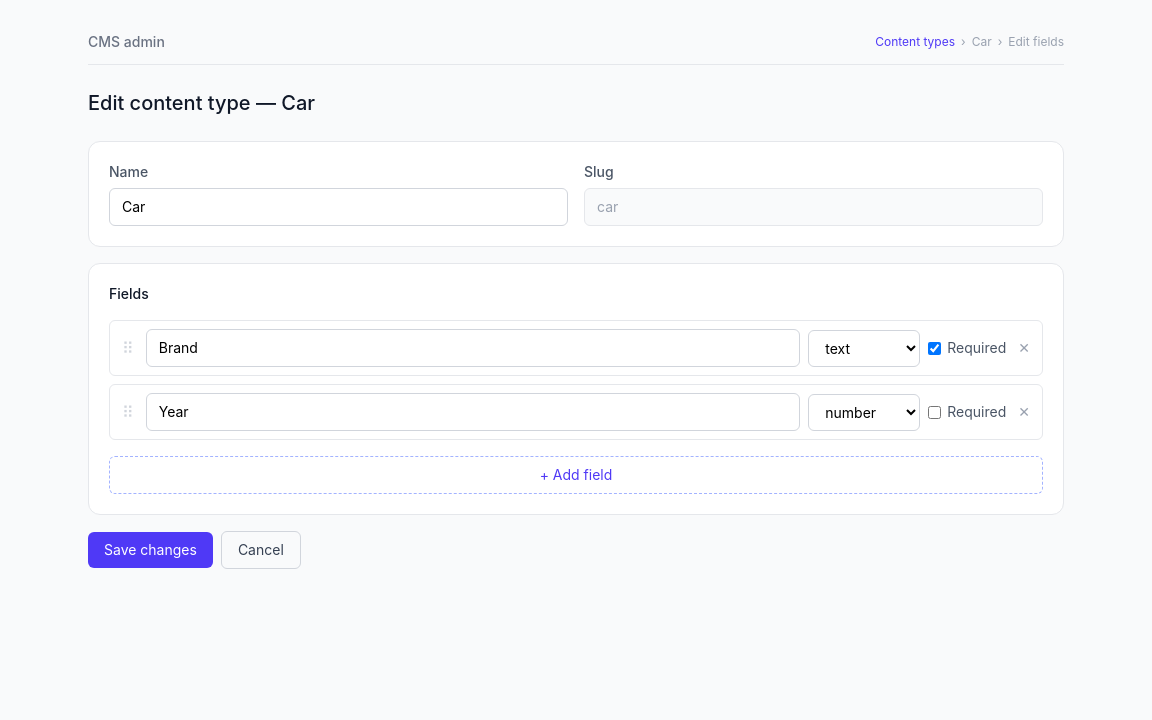
Test case: EditContentType › shows "Name is required" when submitting with empty name
Clear the field showing "Car" at (338, 207), box [109,188,568,226]
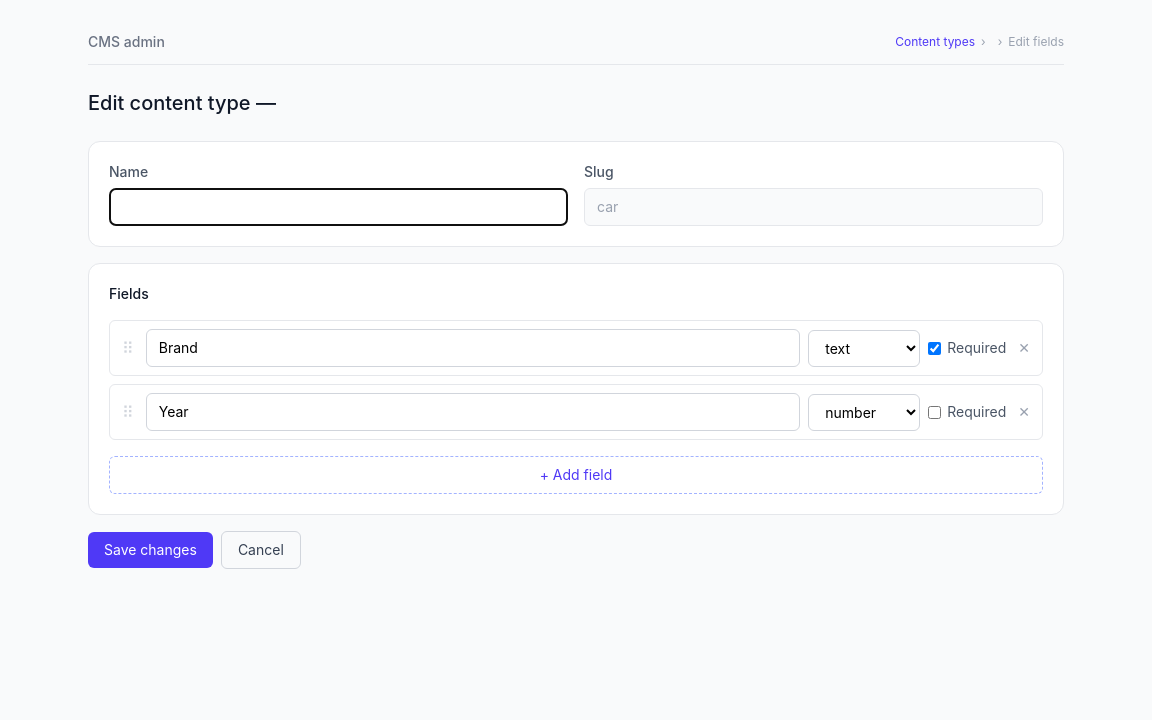
Submit the form, box [88,141,1064,569]
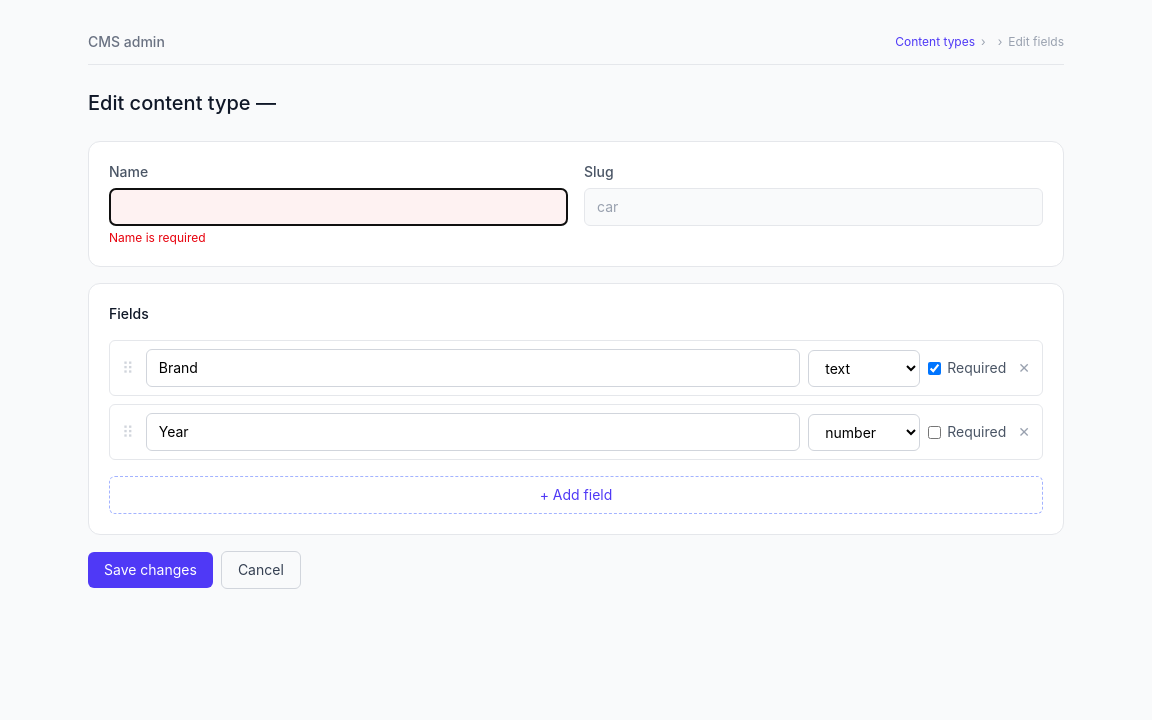
Now the text "Name is required" is shown, box [109,230,206,245]
